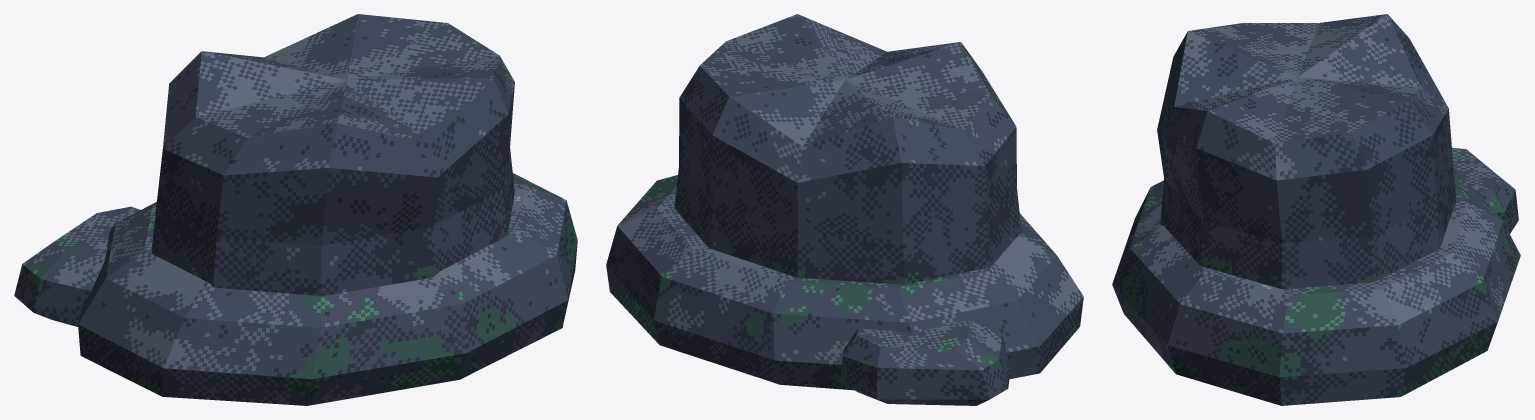
Rendered from SM_Prop_GalleryBrokenColumn_01.glb.
The picture shows the model from 3 angles, left to right: view 1: azimuth 30°, elevation 25°; view 2: azimuth 150°, elevation 25°; view 3: azimuth 270°, elevation 25°; orthographic projection. The views are drawn at different scales.
Parts seen in each view (by area): view 1: stone_broken_drum, stone_plinth, stone_fallen_chip; view 2: stone_broken_drum, stone_plinth, stone_fallen_chip; view 3: stone_broken_drum, stone_plinth, stone_fallen_chip.
Part boxes in pixels (x1,y1,x2,y2): stone_broken_drum: (151,14,514,296); stone_plinth: (78,173,577,405); stone_fallen_chip: (14,206,140,326); stone_broken_drum: (674,14,1021,284); stone_plinth: (606,175,1083,390); stone_fallen_chip: (840,320,1010,405); stone_broken_drum: (1157,14,1456,288); stone_plinth: (1112,166,1520,405); stone_fallen_chip: (1452,147,1518,233).
Size of the model in its own units: 0.9465 by 0.4979 by 0.7552.
Materials: 1 (1 with a texture image).
